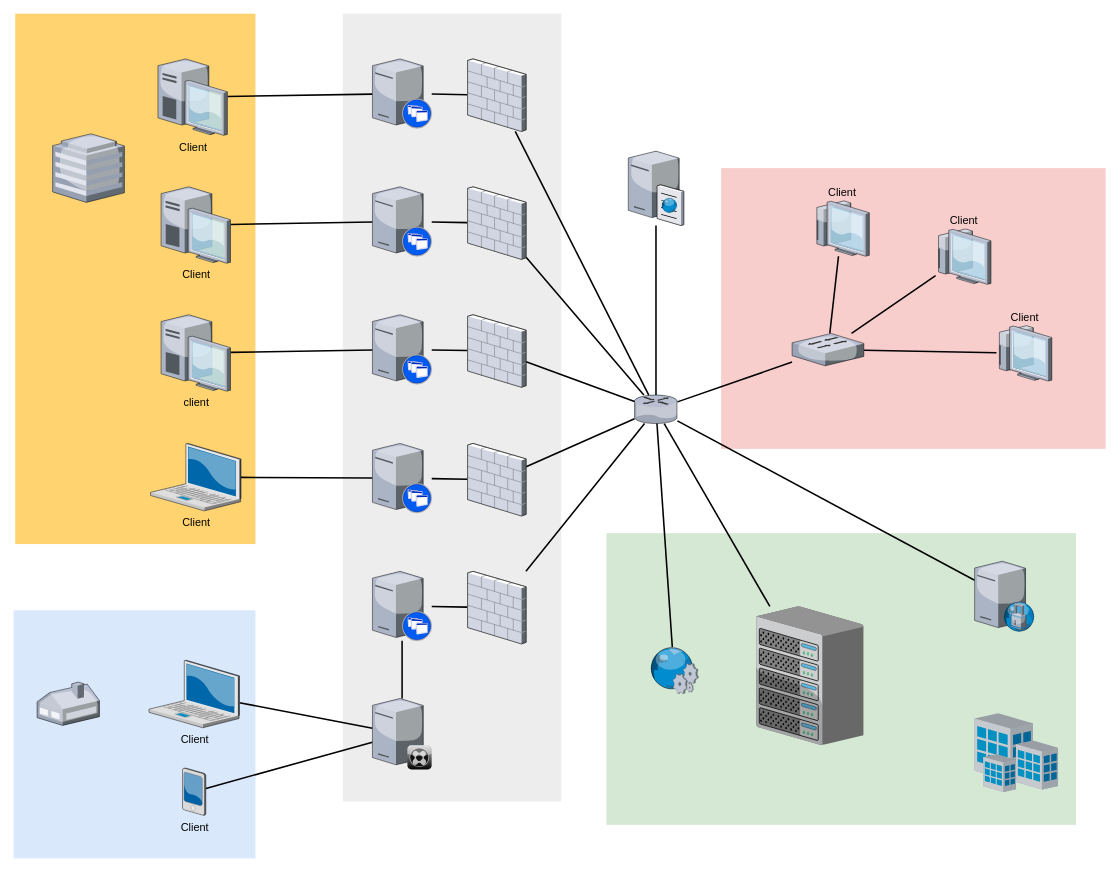
Some shapes in this 1119 by 871 pixel diagram are drawn without their labels. Here are the shapes that lost their labels. From the top down, the centre of each, then its label:
At pixel 655 187: "Web Server".
At pixel 1004 596: "Secure Server".
At pixel 673 670: "Web service".
At pixel 809 675: "DNS".
